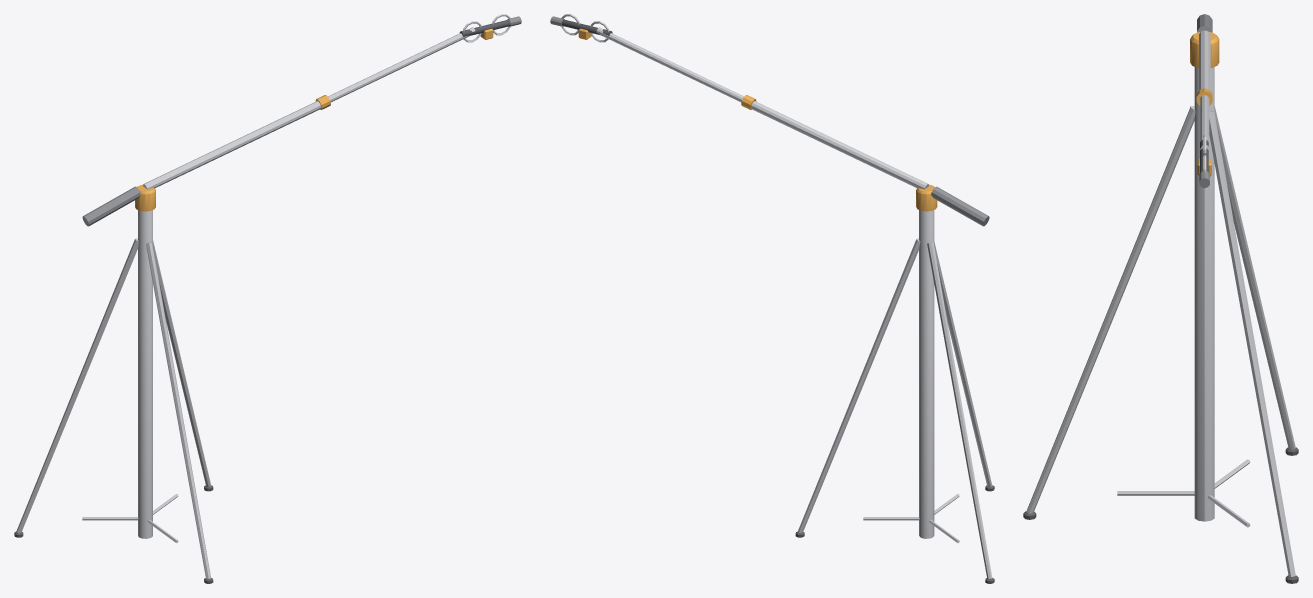
Rendered from 35505_Boom_Microphone_on_a_Pole__TV_Studio_and_Broadcast_Gallery_.glb.
The picture shows the model from 3 angles, left to right: view 1: azimuth 30°, elevation 25°; view 2: azimuth 150°, elevation 25°; view 3: azimuth 270°, elevation 25°; orthographic projection. The views are drawn at different scales.
Visible parts, largest first — view 1: boom-microphone-on-pole, arm/metal, arm/gear; view 2: boom-microphone-on-pole, arm/metal, arm/gear; view 3: boom-microphone-on-pole, arm/metal, arm/gear.
Part boxes in pixels (x1=…): boom-microphone-on-pole: x1=14, y1=184, x2=213, y2=583; arm/metal: x1=143, y1=14, x2=510, y2=189; arm/gear: x1=82, y1=16, x2=521, y2=226; boom-microphone-on-pole: x1=795, y1=184, x2=994, y2=583; arm/metal: x1=561, y1=14, x2=928, y2=189; arm/gear: x1=550, y1=16, x2=989, y2=226; boom-microphone-on-pole: x1=1023, y1=32, x2=1298, y2=583; arm/metal: x1=1199, y1=30, x2=1210, y2=171; arm/gear: x1=1197, y1=14, x2=1212, y2=187.
Bounding box in the file's own units: 2.59 × 2.28 × 0.9448.
